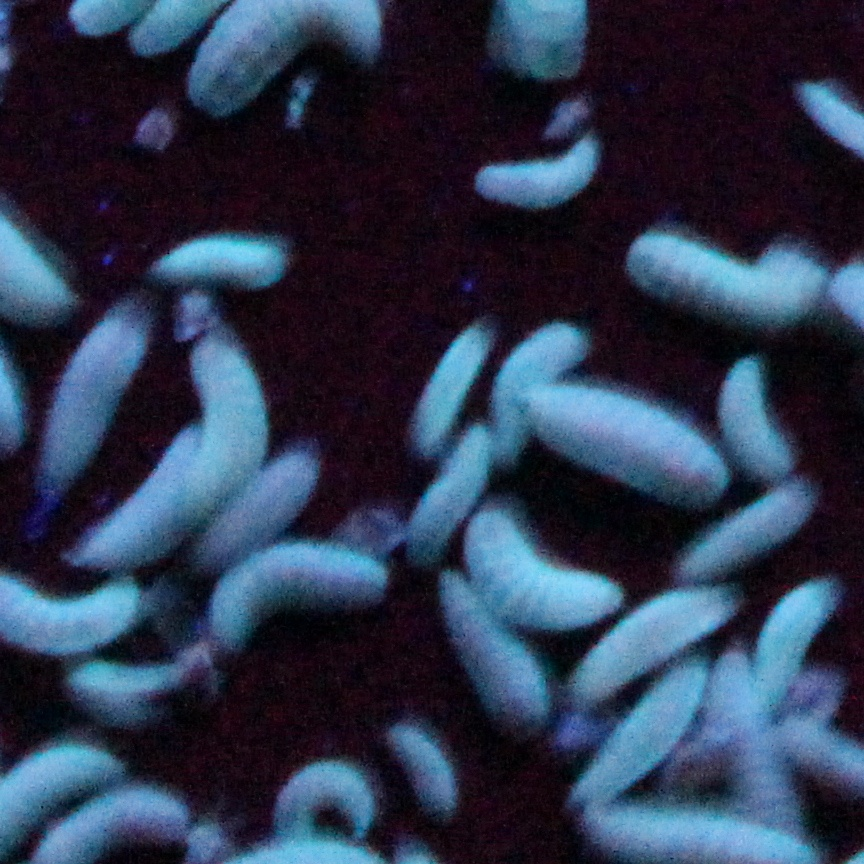larve: (526, 386, 729, 505), (572, 587, 733, 706), (574, 664, 705, 807), (465, 511, 621, 629), (212, 544, 386, 649), (711, 649, 803, 840), (439, 570, 548, 727), (47, 317, 146, 477), (78, 431, 193, 567), (625, 235, 803, 320), (187, 341, 267, 515), (676, 484, 814, 580), (205, 453, 317, 567), (490, 322, 586, 441), (65, 647, 214, 723), (754, 578, 833, 713), (412, 427, 488, 565), (718, 360, 790, 480), (414, 330, 486, 444), (476, 138, 596, 206), (273, 762, 376, 838), (153, 236, 286, 288), (393, 725, 454, 809), (759, 249, 830, 289)
